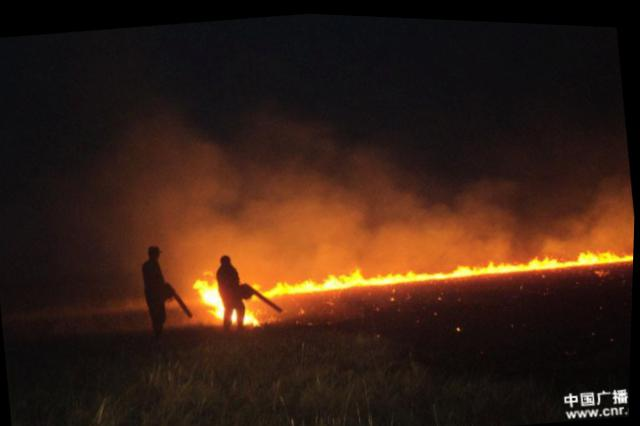fire: (189, 214, 634, 345)
